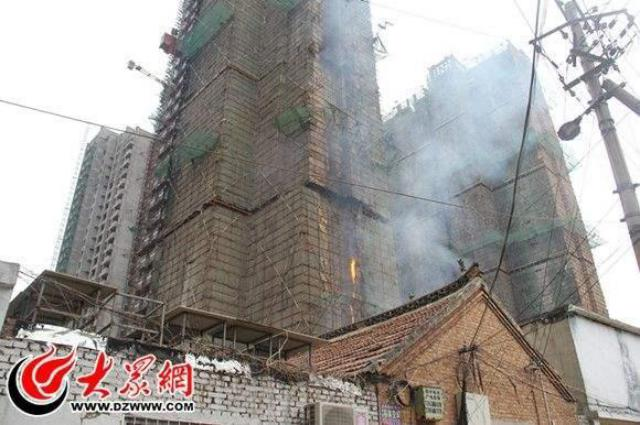smoke: (413, 88, 499, 186), (388, 186, 452, 299)
